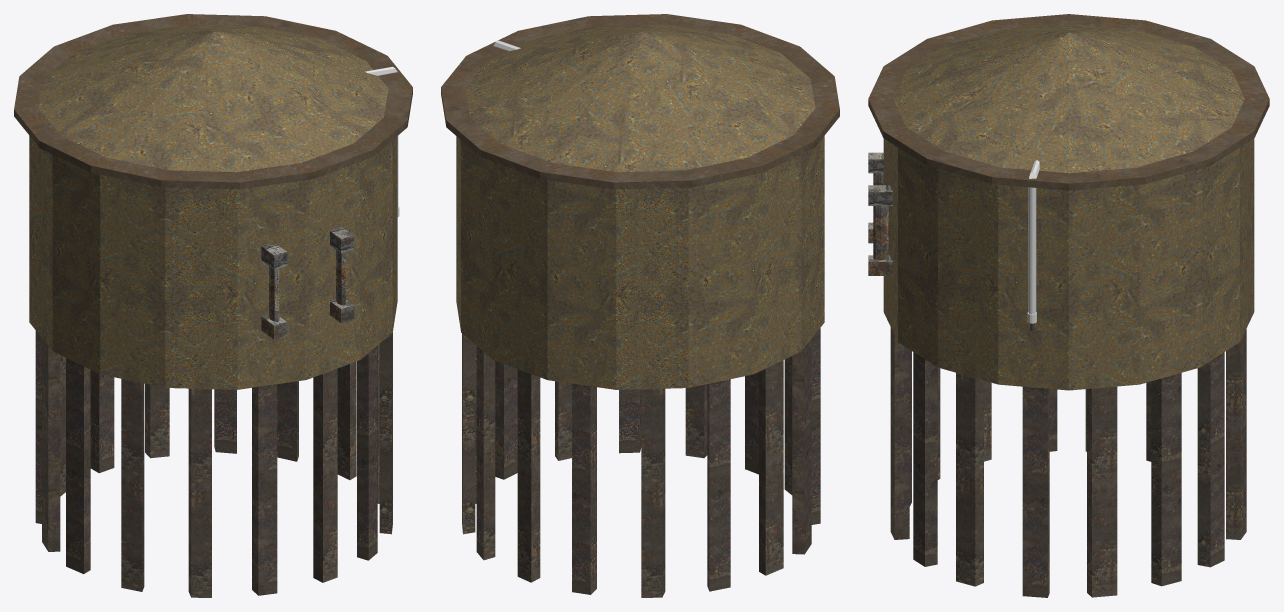
File: water_tower.fbx
3 views of the same model, side by side, from view 1: azimuth 30°, elevation 25°; view 2: azimuth 150°, elevation 25°; view 3: azimuth 270°, elevation 25° (orthographic).
Visible parts, largest first — view 1: Object; view 2: Object; view 3: Object.
Part boxes in pixels (x1,y1,x2,y2): Object: (14, 14, 412, 597); Object: (441, 14, 839, 597); Object: (868, 14, 1269, 597).
Bounding box in the file's own units: 5200 × 7000 × 5200.
